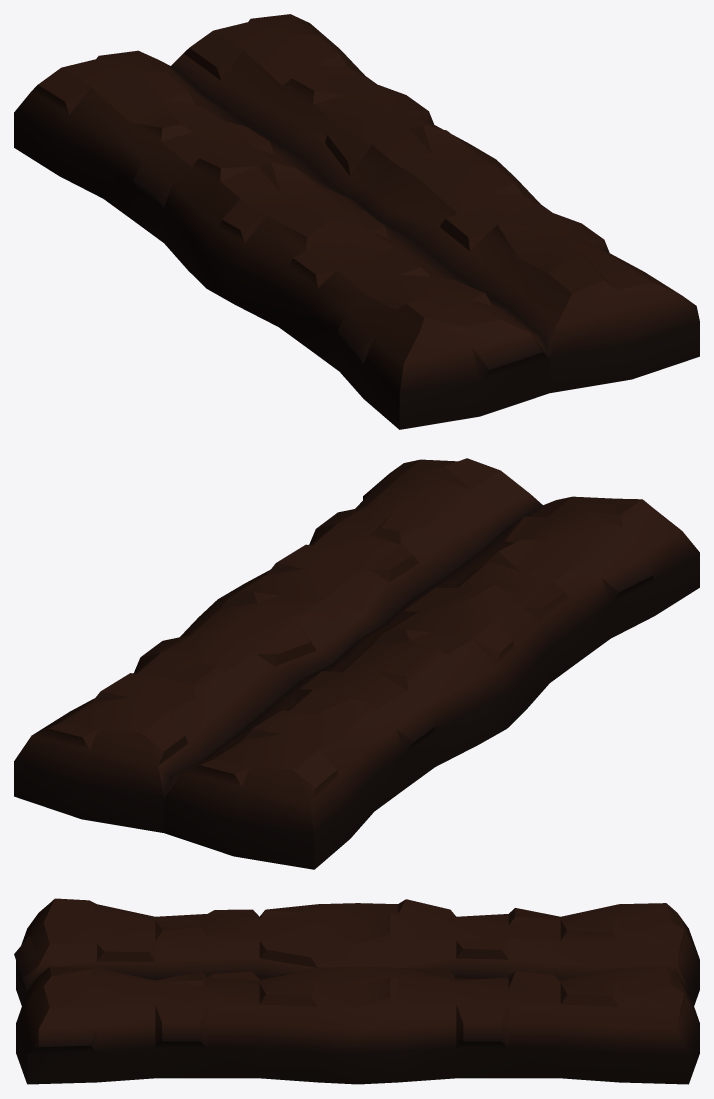
The model's file is Crop6x2.fbx.
3 views of the same model, one above another, from view 1: azimuth 30°, elevation 25°; view 2: azimuth 150°, elevation 25°; view 3: azimuth 270°, elevation 25° (orthographic). The views are drawn at different scales.
Parts seen in each view (by area): view 1: Crop6x2; view 2: Crop6x2; view 3: Crop6x2.
Boxes of the visible parts, <box> form: Crop6x2: <box>14,14,699,429</box>; Crop6x2: <box>14,458,699,869</box>; Crop6x2: <box>14,898,699,1084</box>.
Bounding box in the file's own units: 400 × 119 × 911.
